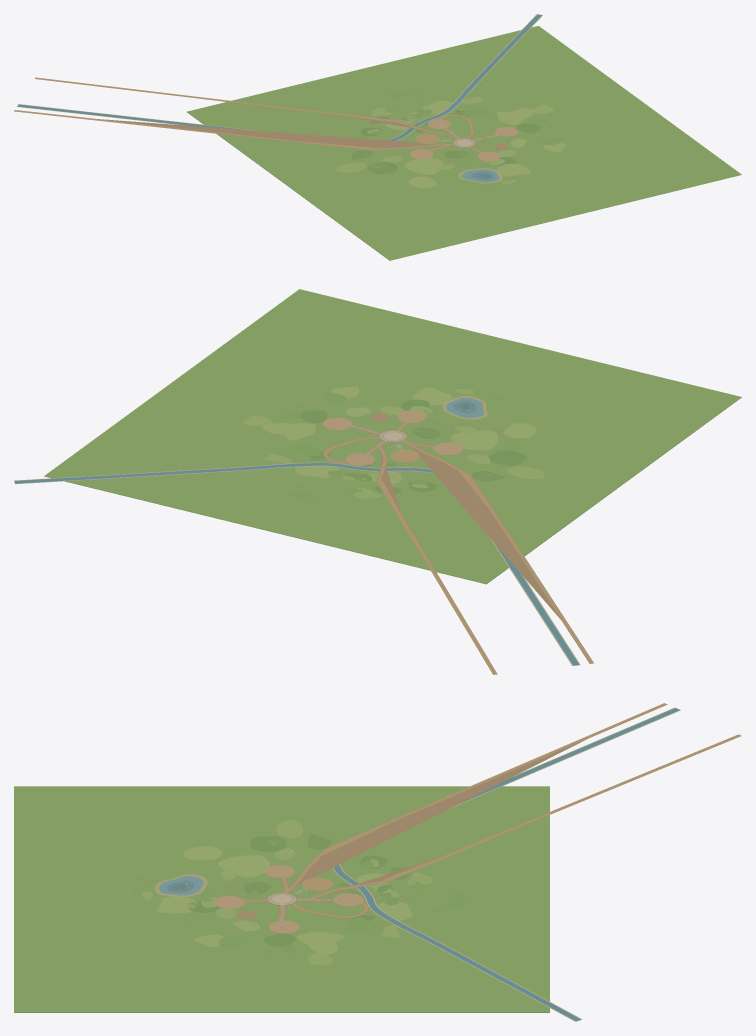
File: world-ground.glb
3 views of the same model, one above another, from view 1: azimuth 30°, elevation 25°; view 2: azimuth 150°, elevation 25°; view 3: azimuth 270°, elevation 25° (orthographic). The views are drawn at different scales.
Parts seen in each view (by area): view 1: ground; view 2: ground; view 3: ground.
Part boxes in pixels (<box>): ground: <box>14,14,741,260</box>; ground: <box>14,289,741,674</box>; ground: <box>14,703,741,1021</box>.
Bounding box in the file's own units: 253 × 0.28 × 244.
